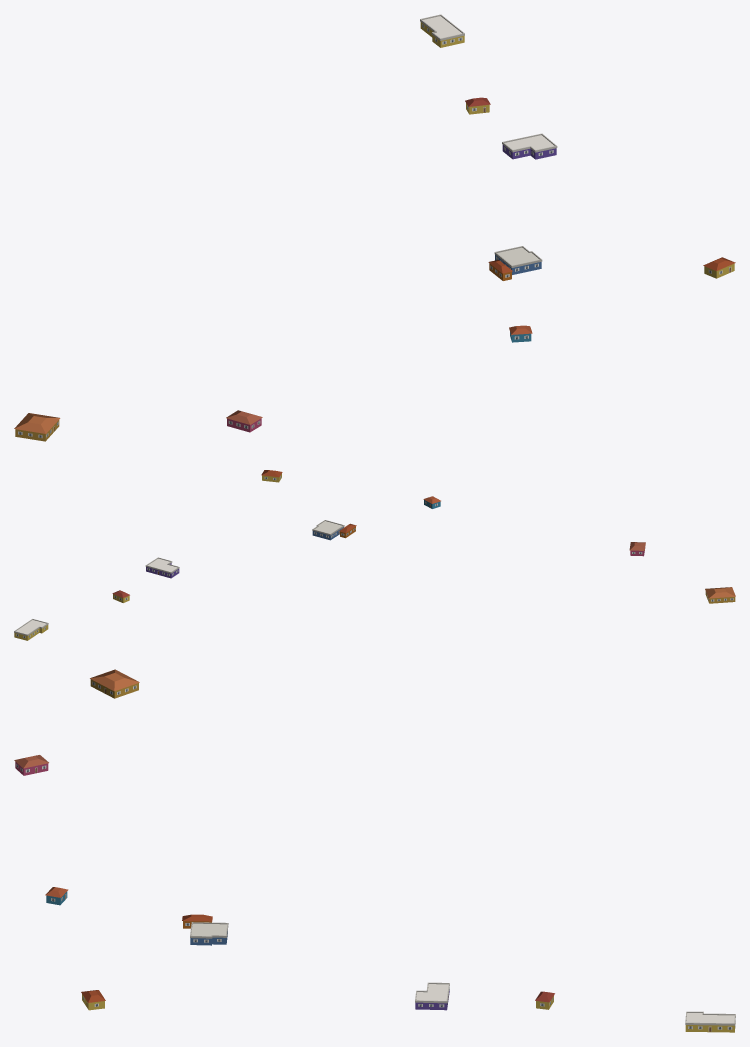
The model's file is msb_noord_m16_m15.glb.
3 renders of one model, top to bottom at view 1: azimuth 30°, elevation 25°; view 2: azimuth 150°, elevation 25°; view 3: azimuth 270°, elevation 25°, orthographic. The views are drawn at different scales.
Parts seen in each view (by area): view 1: msb_noord_m16_m15_lod0; view 2: msb_noord_m16_m15_lod0; view 3: msb_noord_m16_m15_lod0.
Part boxes in pixels (x1,y1,x2,y2): msb_noord_m16_m15_lod0: (14, 14, 735, 441); msb_noord_m16_m15_lod0: (14, 470, 735, 640); msb_noord_m16_m15_lod0: (14, 669, 735, 1032).
Size of what is drawn, in the model's own units: 336 by 7.95 by 289.
Materials: 3 (1 with a texture image).
